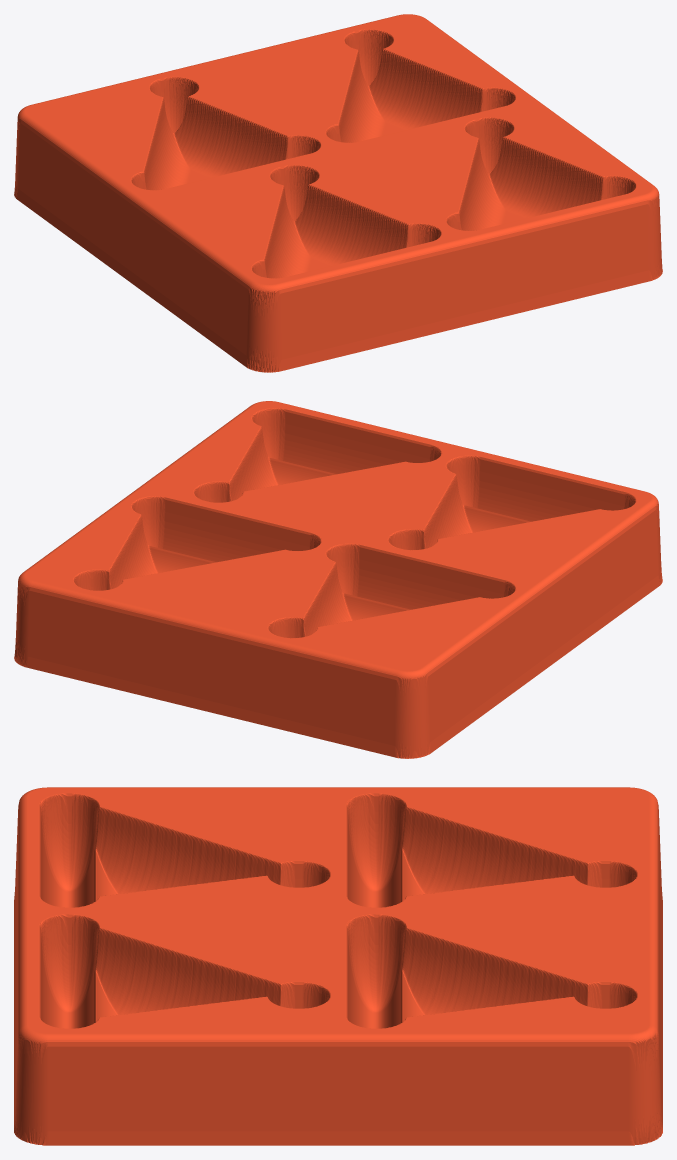
The model's file is mold.glb.
3 views of the same model, one above another, from view 1: azimuth 30°, elevation 25°; view 2: azimuth 150°, elevation 25°; view 3: azimuth 270°, elevation 25° (orthographic). The views are drawn at different scales.
Visible parts, largest first — view 1: geometry_0; view 2: geometry_0; view 3: geometry_0.
Boxes of the visible parts, x1,y1,x2,y2 form: geometry_0: [14, 14, 662, 372]; geometry_0: [14, 401, 662, 758]; geometry_0: [14, 787, 662, 1145].
Size of the model in its own units: 0.1613 by 0.031 by 0.1721.
